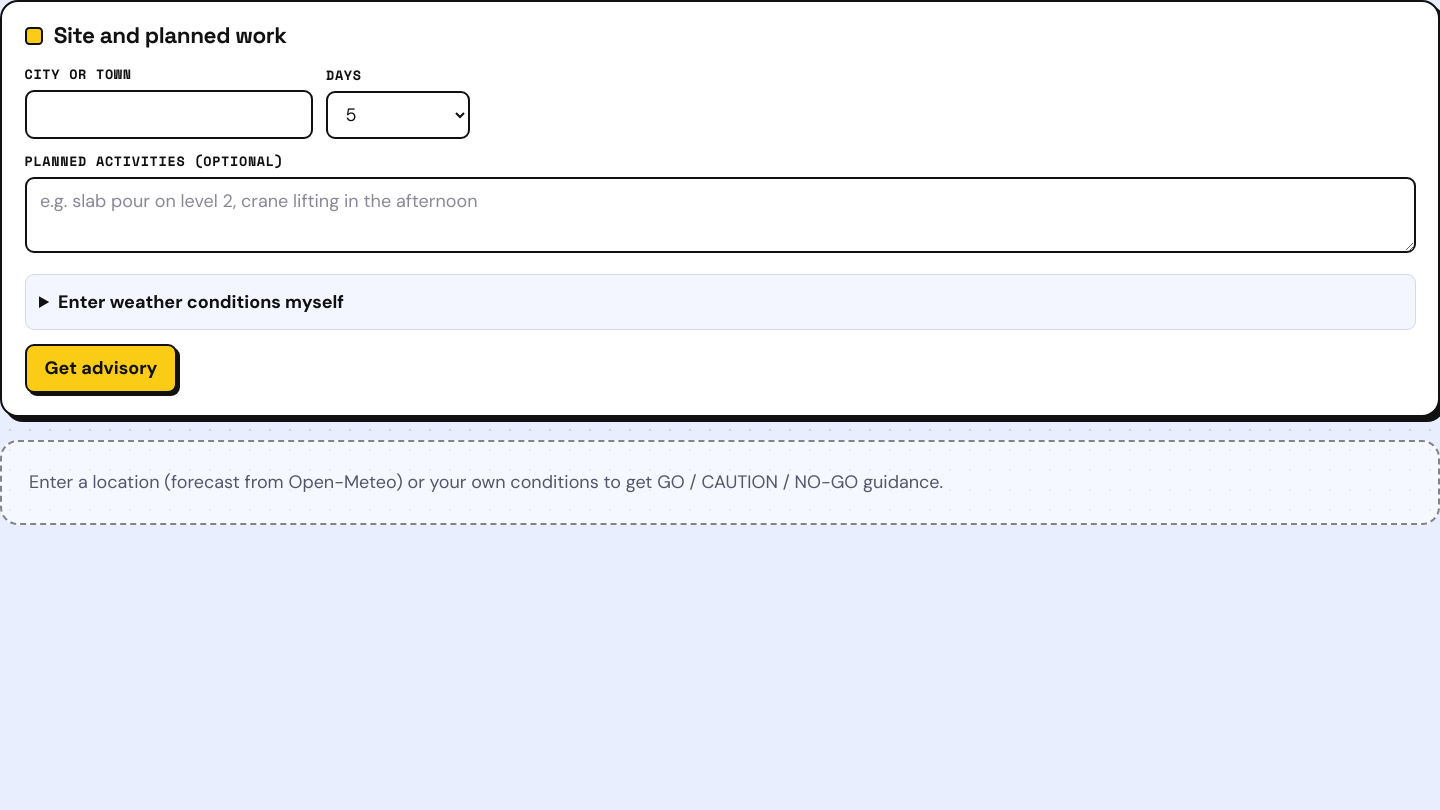
Weather › shows a notice (not fake guidance) when the AI part failed
Type "Indore" into the field labelled "City or town" at (168, 114), box [24,90,312,139]
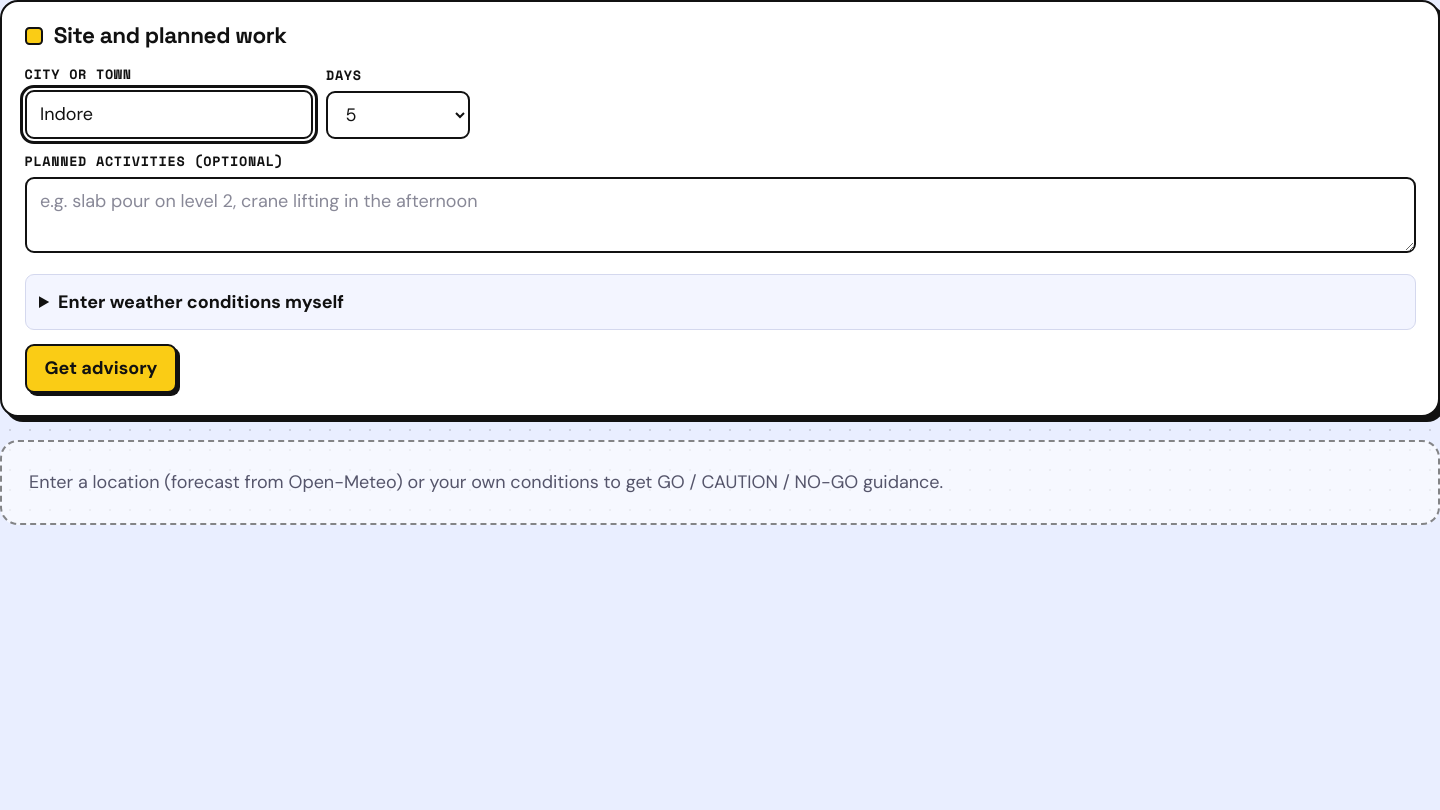
Click the button "Get advisory" at (101, 368), box [24,344,178,393]
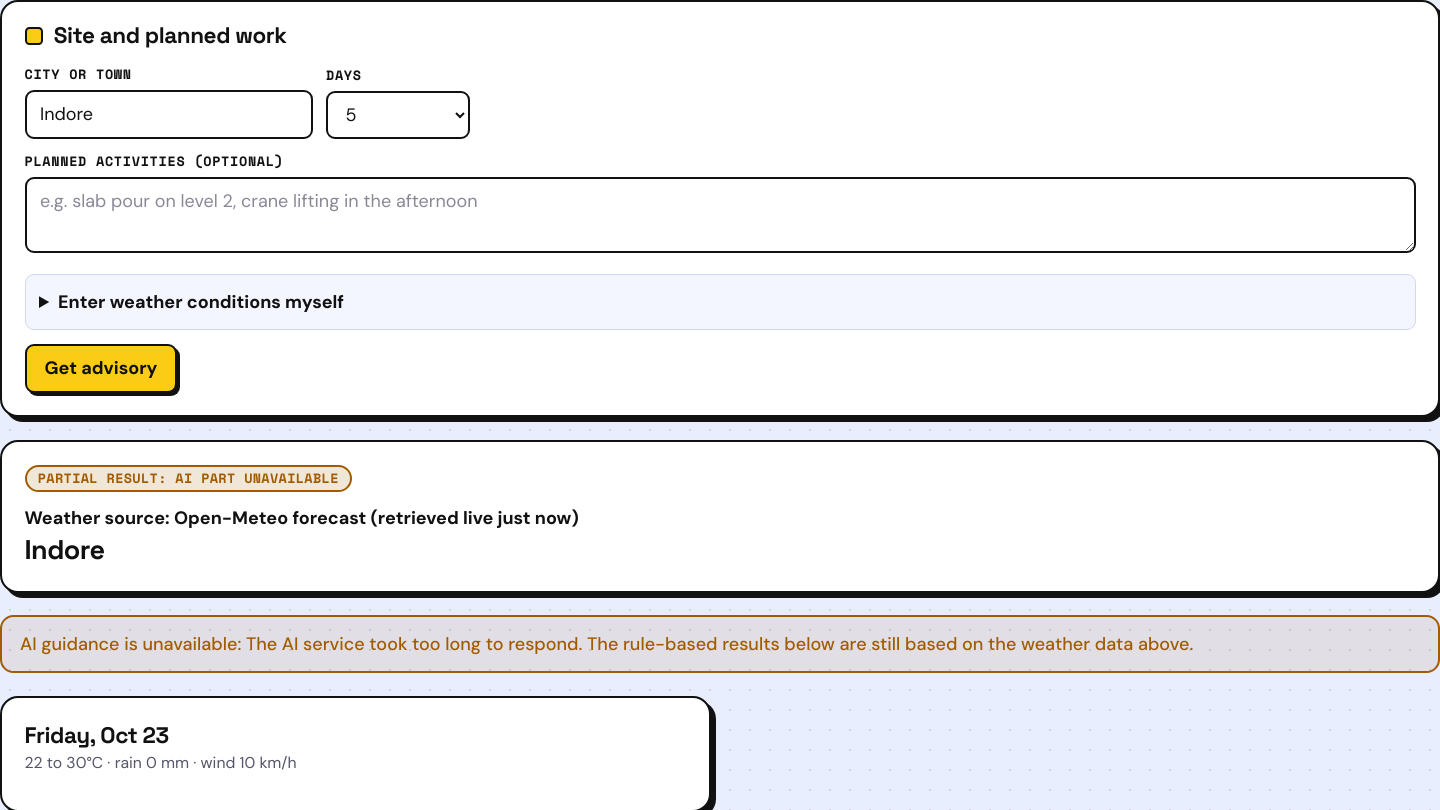
Result: the text "AI guidance is unavailable" is shown at [20,632,1193,656]
